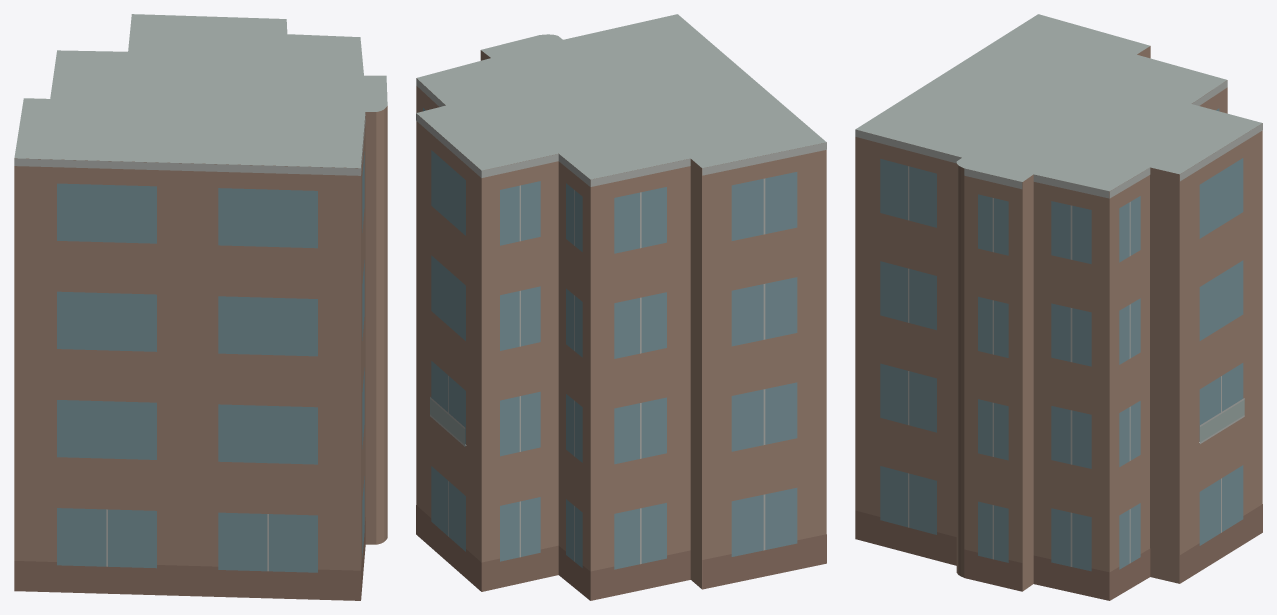
Rendered from survey-upis-32995604.glb.
The picture shows the model from 3 angles, left to right: view 1: azimuth 30°, elevation 25°; view 2: azimuth 150°, elevation 25°; view 3: azimuth 270°, elevation 25°; orthographic projection. The views are drawn at different scales.
Visible parts, largest first — view 1: survey-upis-32995604.tmp; view 2: survey-upis-32995604.tmp; view 3: survey-upis-32995604.tmp.
Part boxes in pixels (x1,y1,x2,y2): survey-upis-32995604.tmp: (14,14,387,600); survey-upis-32995604.tmp: (416,14,826,600); survey-upis-32995604.tmp: (855,14,1262,600).
Bounding box in the file's own units: 12.73 × 13.7 × 12.36.
